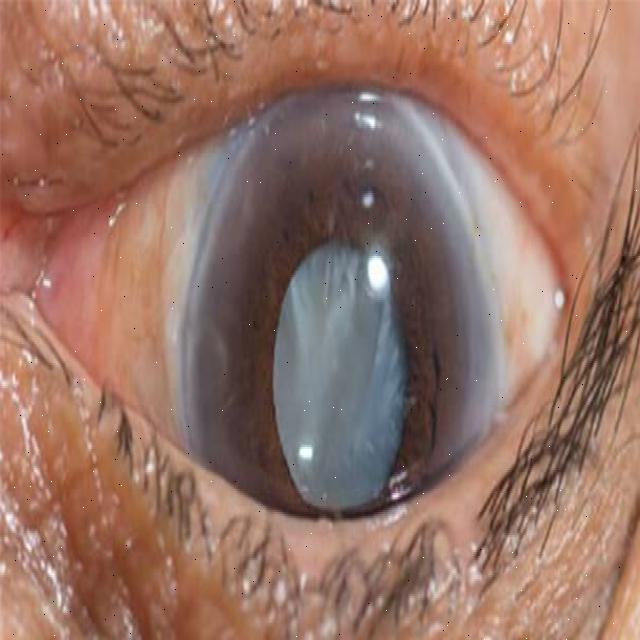Cataract: (180, 67, 504, 640)
